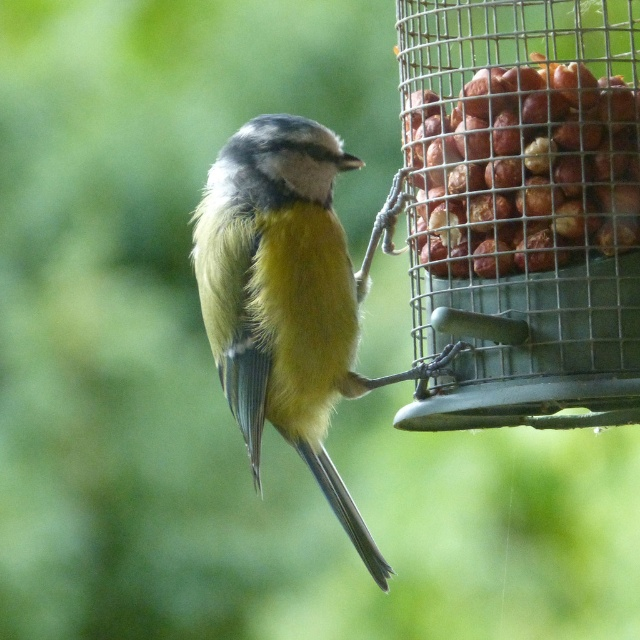Canary: (188, 110, 476, 593)
